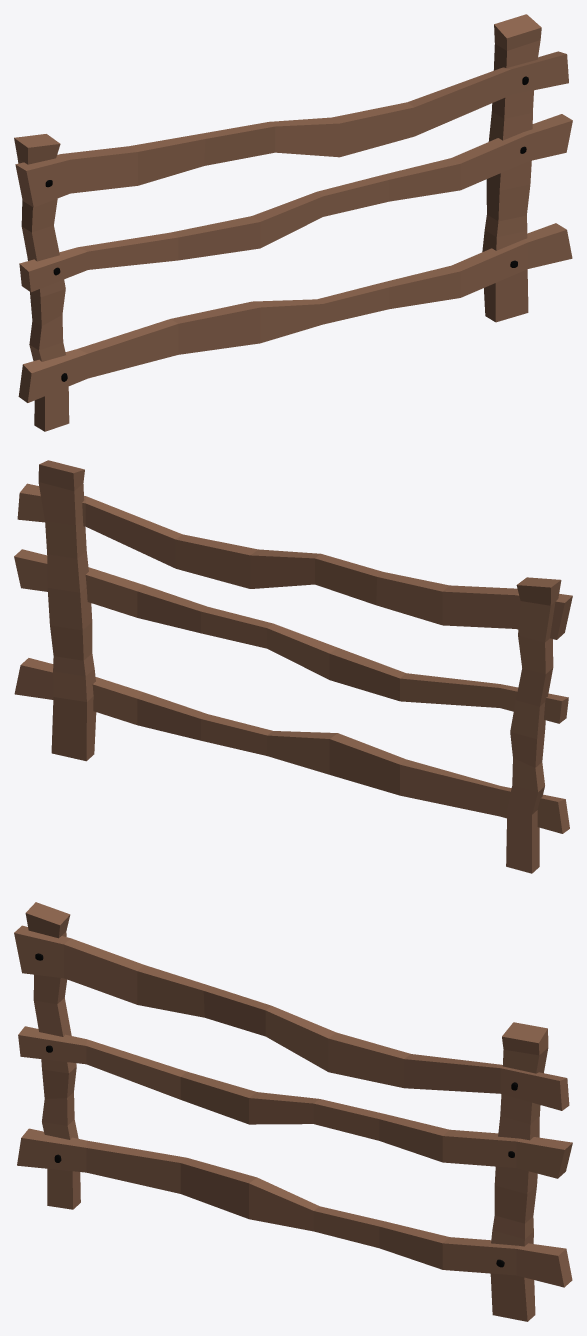
The model's file is tahta çit 1.fbx.
The picture shows the model from 3 angles, top to bottom: view 1: azimuth 30°, elevation 25°; view 2: azimuth 150°, elevation 25°; view 3: azimuth 330°, elevation 25°; orthographic projection.
Parts seen in each view (by area): view 1: çit 1; view 2: çit 1; view 3: çit 1.
Boxes of the visible parts, left/top/right/bottom form: çit 1: left=14, top=14, right=572, bottom=431; çit 1: left=14, top=460, right=572, bottom=873; çit 1: left=14, top=902, right=572, bottom=1321.
Bounding box in the file's own units: 514 × 260 × 33.11.
